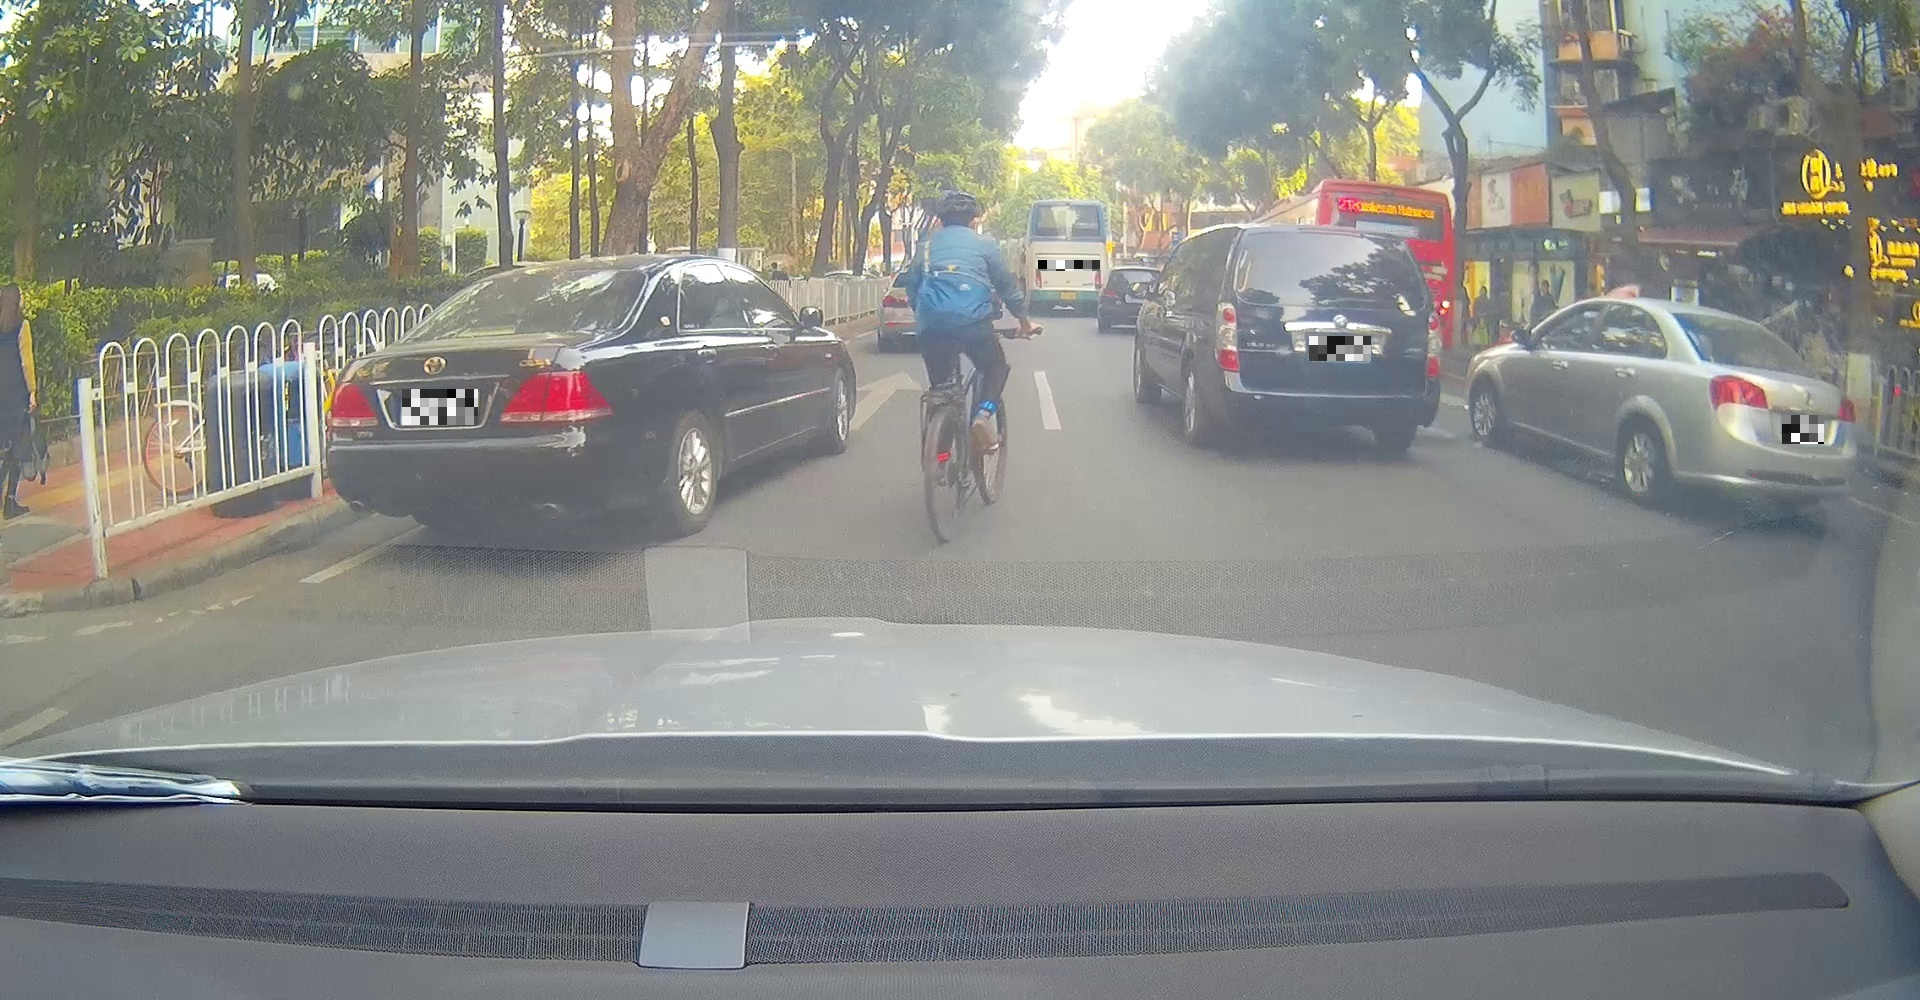L_light: (329, 382, 380, 428), (1708, 374, 1769, 412), (1217, 302, 1241, 372)
R_light: (498, 369, 615, 424), (1427, 310, 1443, 378), (1837, 397, 1860, 423)
T_light: (458, 324, 518, 338), (1304, 234, 1355, 247), (1731, 320, 1768, 334)
day-no: (326, 263, 651, 536), (1211, 225, 1444, 452), (1669, 310, 1859, 522)
plate_1: (403, 390, 477, 425)
plate_2: (1037, 260, 1100, 272)
plate_3: (1309, 336, 1371, 360)
plate_4: (1782, 415, 1823, 444)
